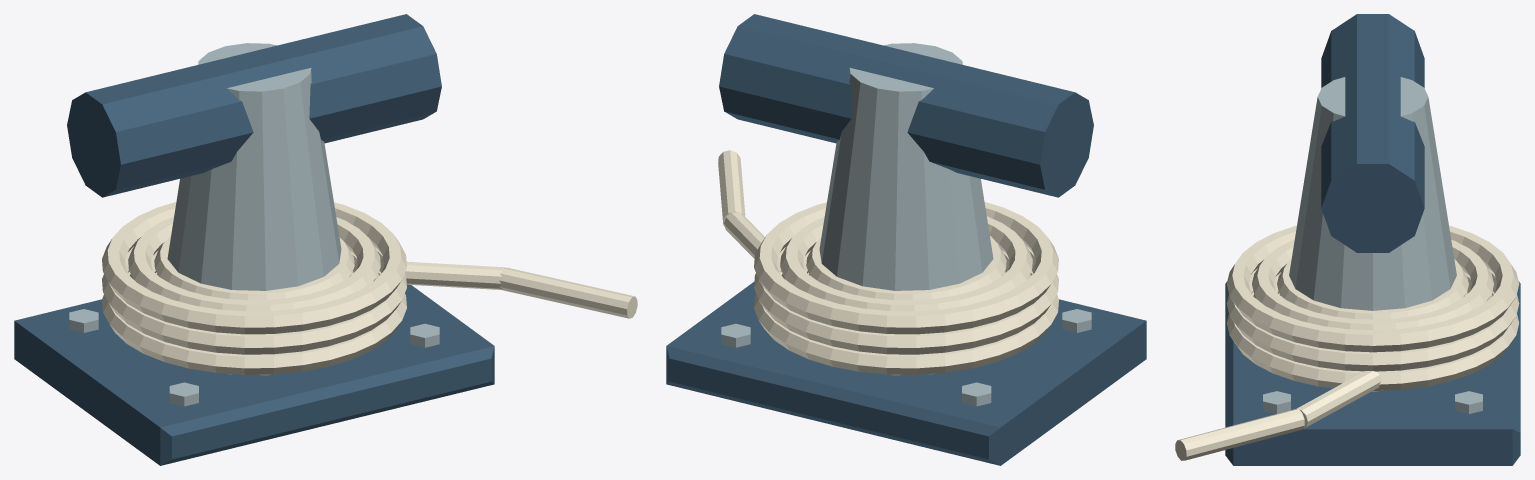
File: harbor-and-tackle-harbor-bollard-36ce647e.glb
3 renders of one model, left to right at view 1: azimuth 30°, elevation 25°; view 2: azimuth 150°, elevation 25°; view 3: azimuth 270°, elevation 25°, orthographic. The views are drawn at different scales.
Parts seen in each view (by area): view 1: navy, ivory, metal; view 2: navy, ivory, metal; view 3: navy, ivory, metal.
Boxes of the visible parts, x1,y1,x2,y2 form: navy: [14, 14, 494, 465]; ivory: [102, 202, 637, 374]; metal: [69, 43, 439, 406]; navy: [666, 14, 1146, 465]; ivory: [718, 150, 1058, 374]; metal: [721, 43, 1091, 406]; navy: [1225, 14, 1520, 465]; ivory: [1175, 225, 1519, 460]; metal: [1263, 77, 1482, 413].
Size of the model in its own units: 0.6773 by 0.4466 by 0.4677.
